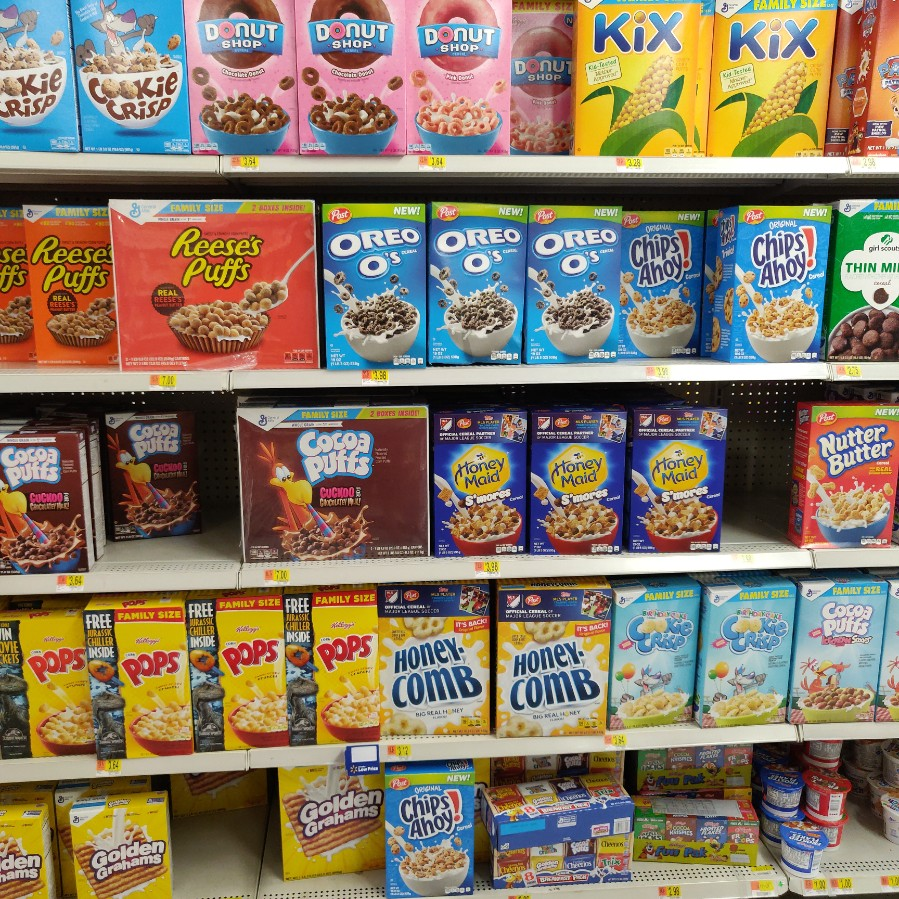Chips Ahoys-565717529: (723, 206, 829, 363), (623, 210, 716, 357), (381, 771, 479, 899)
Honey Comb- 009288857: (490, 579, 614, 733), (376, 586, 497, 741)
Oreo-563424384: (315, 197, 429, 369), (428, 197, 527, 369), (534, 204, 627, 364)
